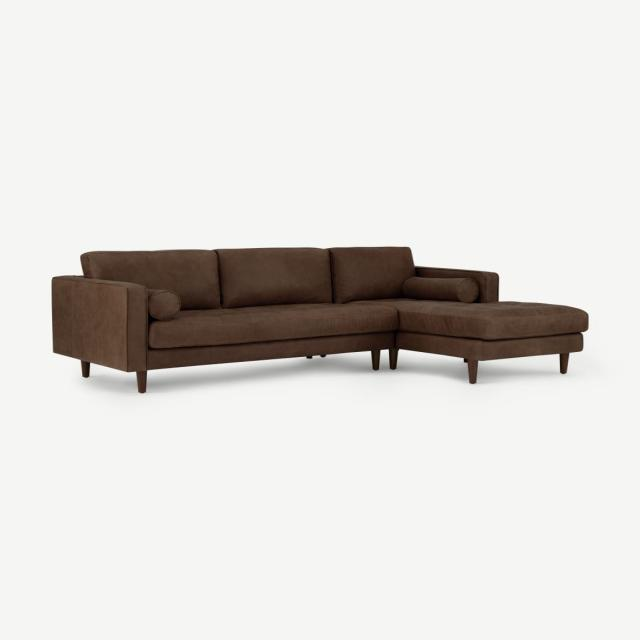Soffa: (56, 234, 576, 401)
